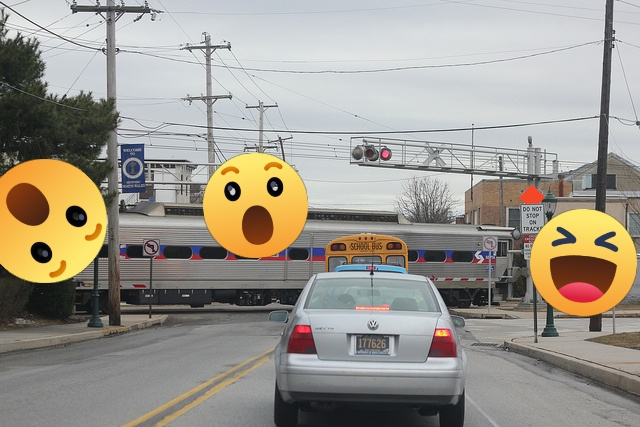haha: (530, 209, 637, 316)
wow: (0, 159, 107, 283), (203, 153, 308, 258)
